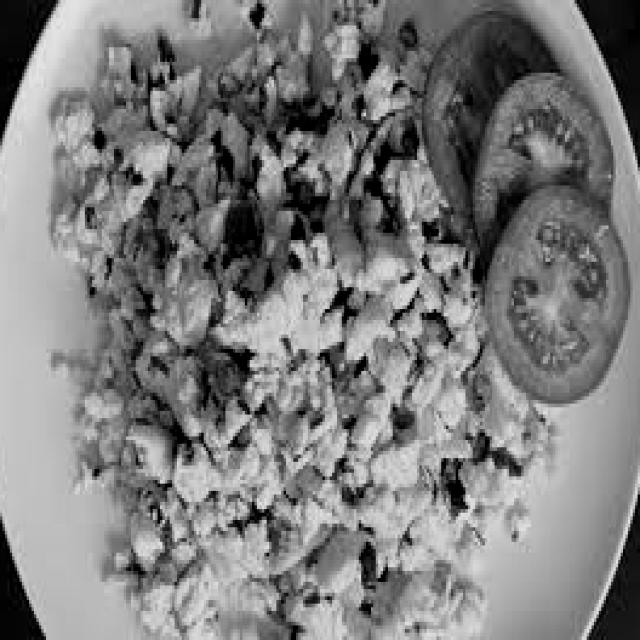telur_orak_arik: (36, 40, 524, 640)
